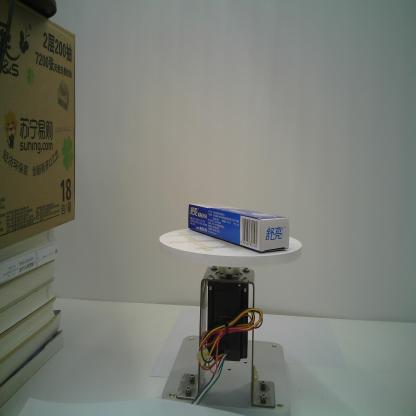Personal Hygiene: (187, 201, 290, 252)
